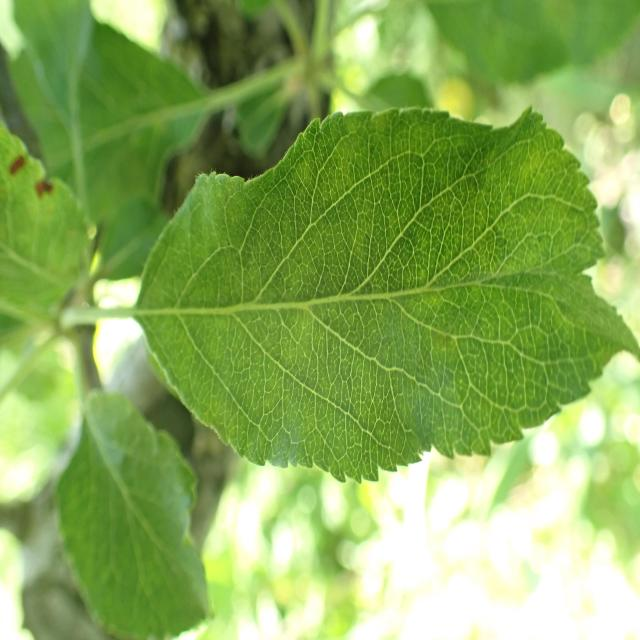scab: (142, 196, 544, 454)
